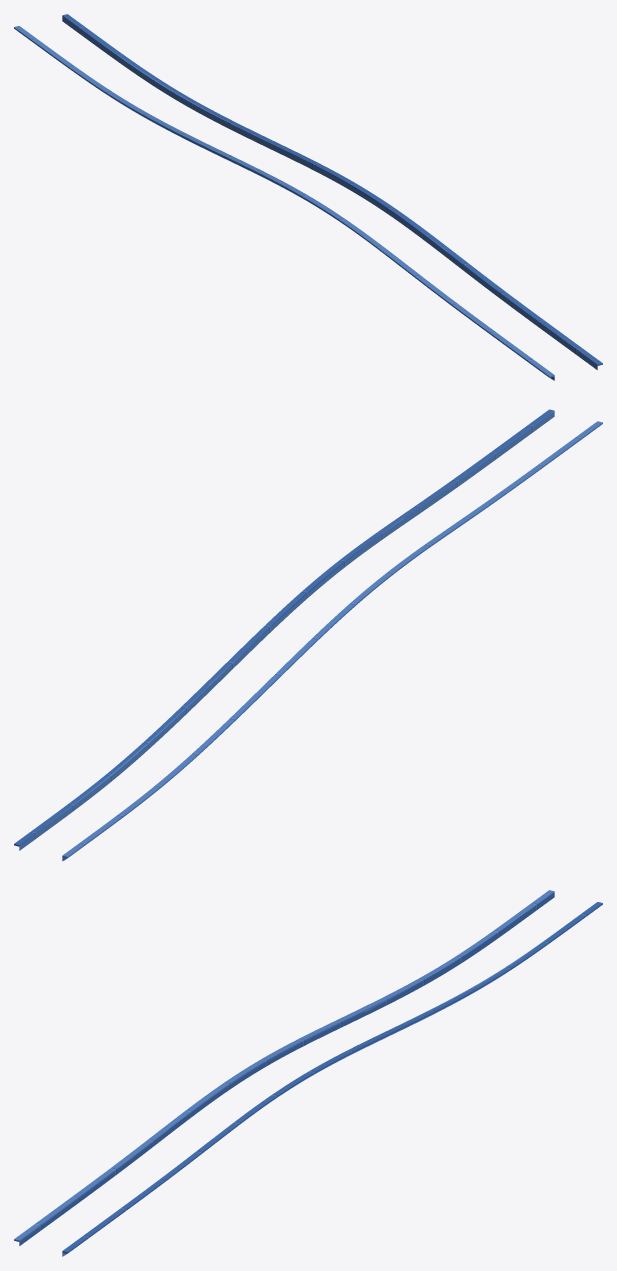
3 renders of one model, top to bottom at view 1: azimuth 30°, elevation 25°; view 2: azimuth 150°, elevation 25°; view 3: azimuth 330°, elevation 25°, orthographic.
Visible parts, largest first — view 1: Default; view 2: Default; view 3: Default.
Boxes of the visible parts, left/top/right/bottom form: Default: left=14, top=14, right=602, bottom=380; Default: left=14, top=409, right=602, bottom=861; Default: left=14, top=890, right=602, bottom=1256.
Bounding box in the file's own units: 139 × 128 × 2400.
Materials: 1 (1 with a texture image).
